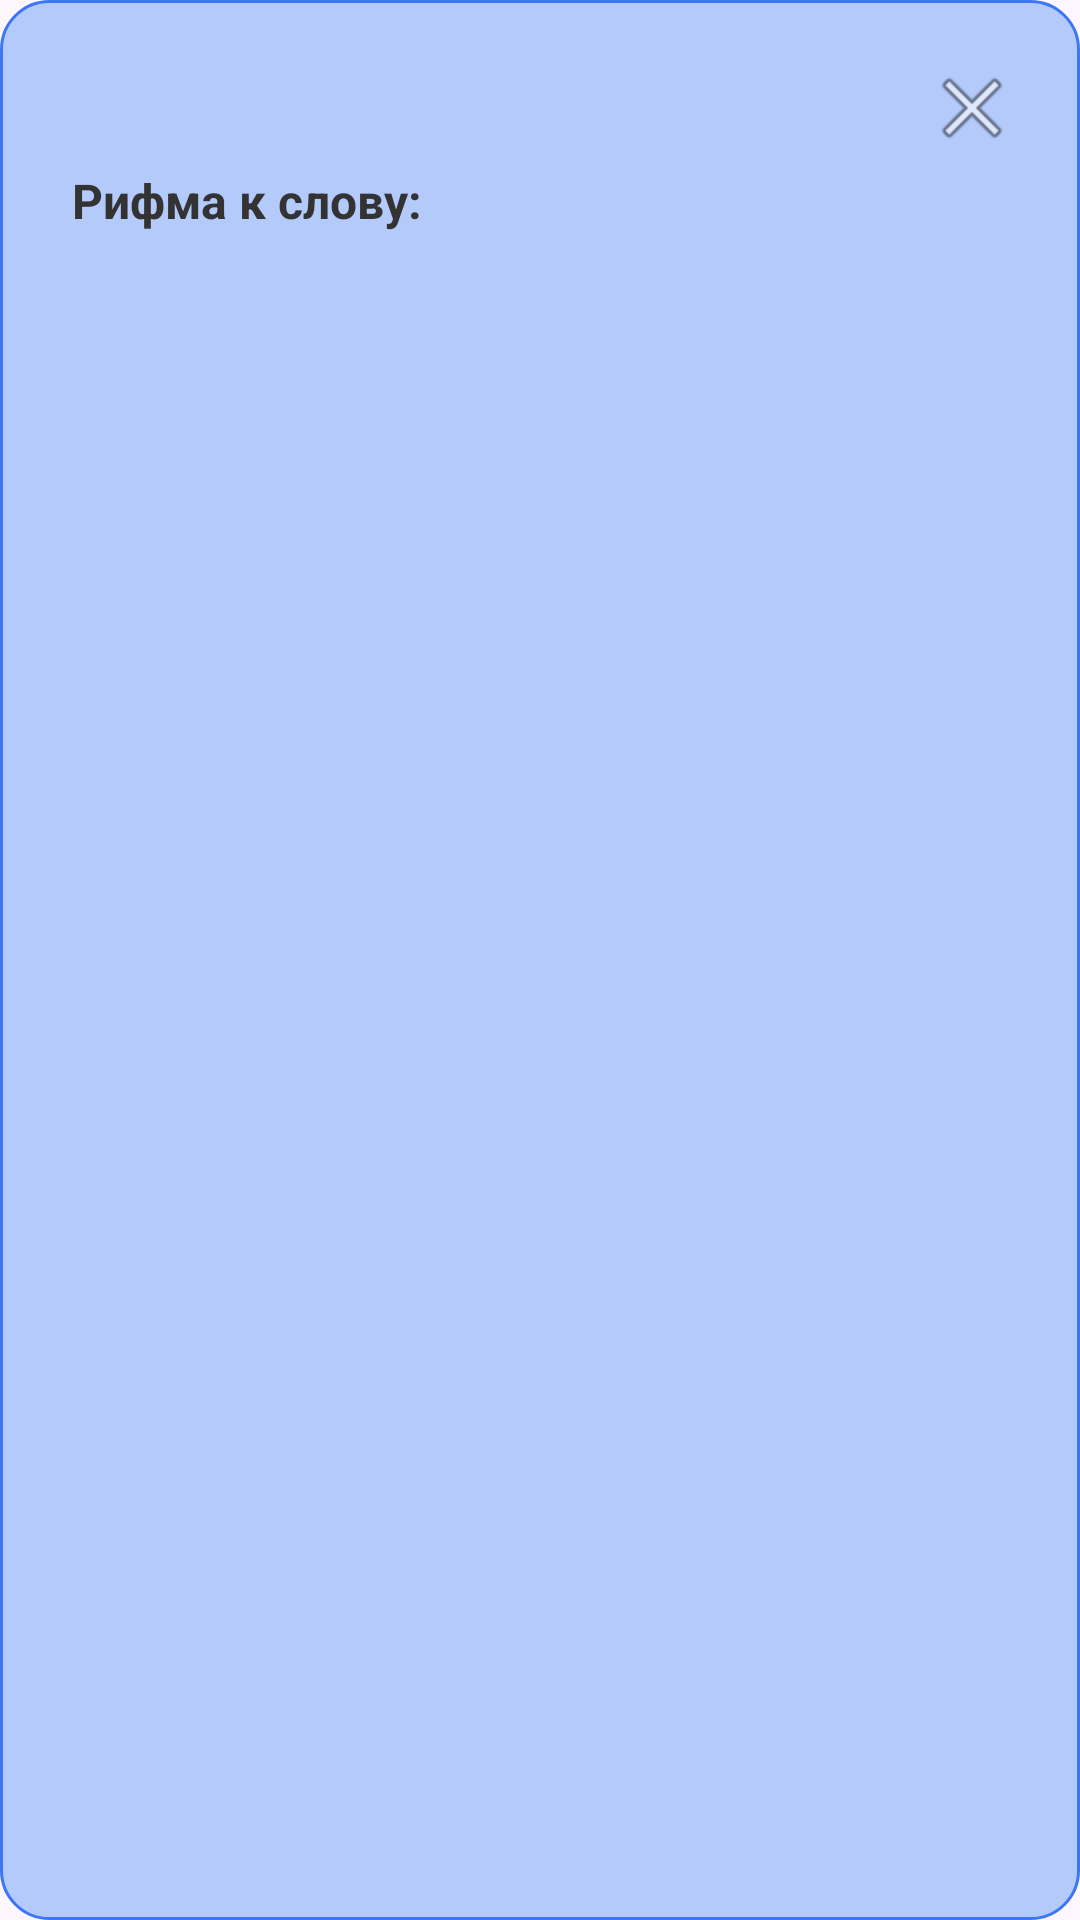

Point at icon controls on the screen. Image size 1080 × 1920, points as (x,y).
Закрыть: (972,108)
